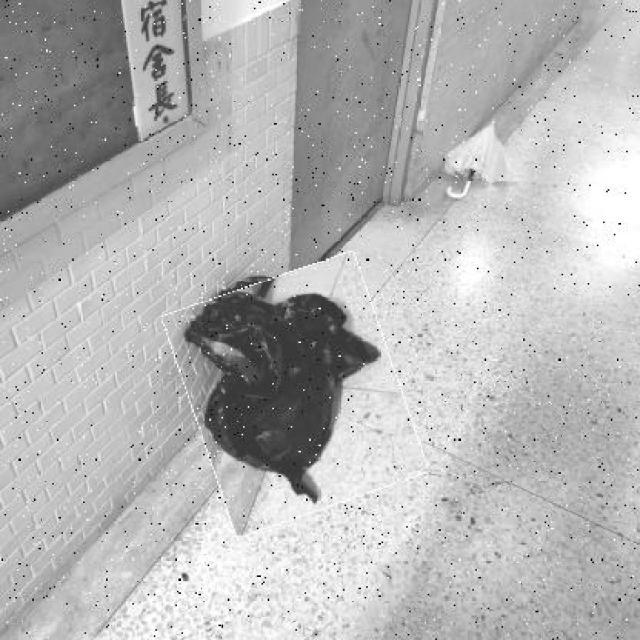waste: (178, 264, 414, 524)
